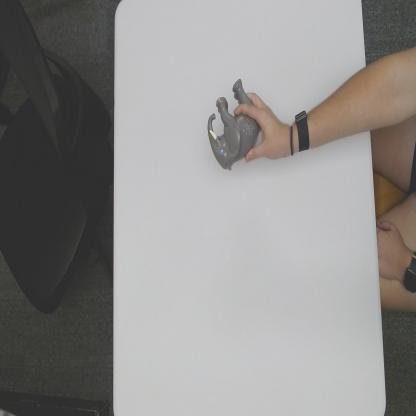Arm: (309, 64, 368, 148)
Elephant: (206, 76, 260, 172)
Hand: (235, 87, 294, 163)
